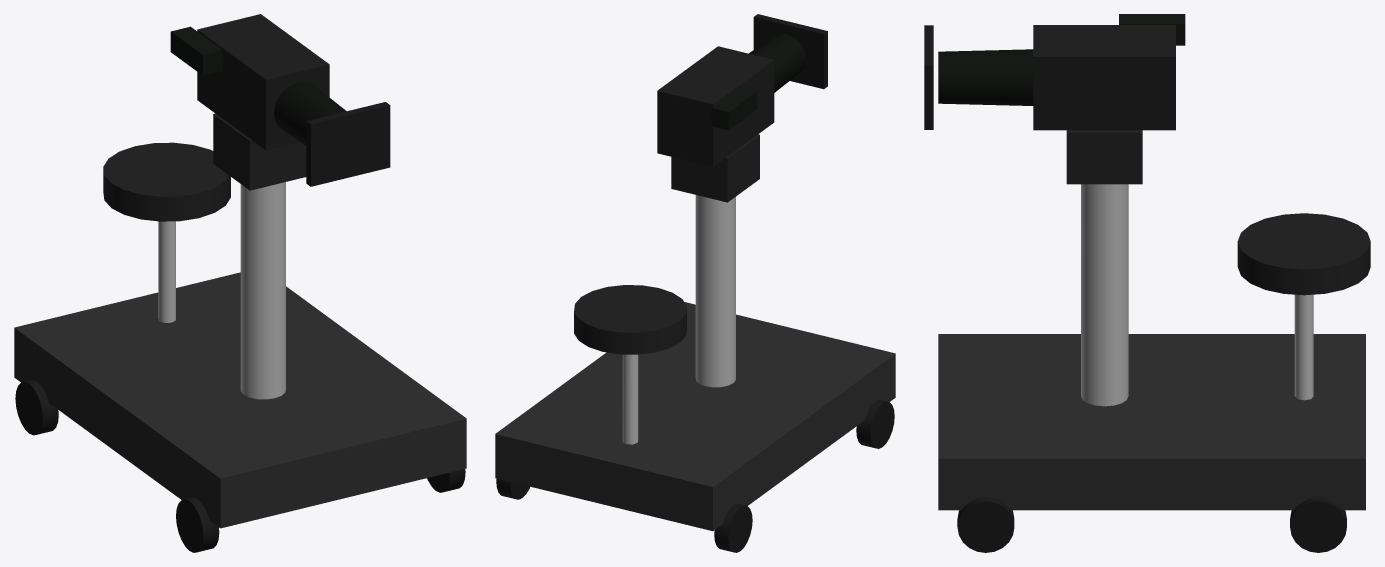
The model's file is dolly.glb.
3 renders of one model, left to right at view 1: azimuth 30°, elevation 25°; view 2: azimuth 150°, elevation 25°; view 3: azimuth 270°, elevation 25°, orthographic. The views are drawn at different scales.
Size of the model in its own units: 0.66 by 1.03 by 0.94.
Materials: 1 (1 with a texture image).
